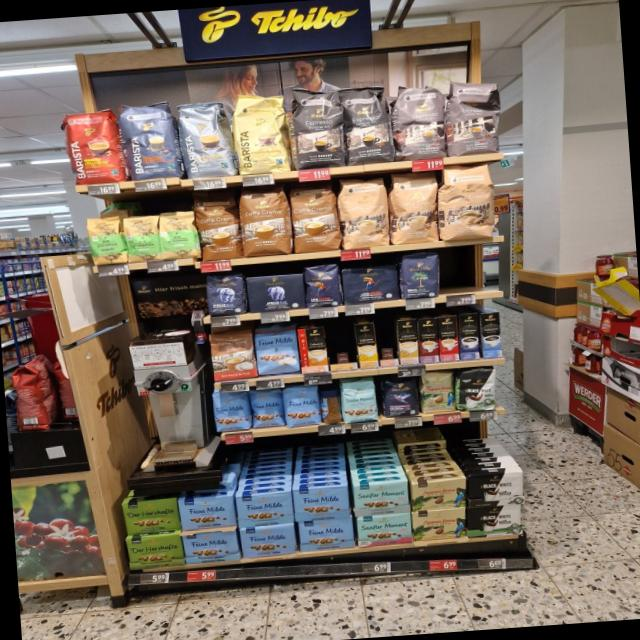AB Bohne: (204, 270, 246, 316)
AB Gemahlen: (245, 272, 307, 314)
Athiopien Bohne: (84, 214, 127, 266)
Athiopien Gemahlen: (158, 209, 198, 260), (123, 214, 161, 264)
BW Bohne: (399, 250, 442, 300), (458, 367, 500, 412)
BW Gemahlen: (466, 470, 526, 507), (466, 503, 524, 540)
Barista CB: (231, 90, 290, 176)
Barista CC: (175, 99, 238, 179)
Barista Espresso: (118, 100, 183, 182)
Barista Kolumbien: (61, 108, 126, 186)
C Fino Bohne: (382, 376, 421, 418)
CC Mild: (438, 167, 496, 240), (336, 174, 392, 248), (390, 170, 440, 244)
CC Vollmundig: (208, 328, 258, 381)
CC Vollmundig 36 Pads: (288, 180, 342, 253), (240, 184, 293, 257), (193, 188, 241, 260)
Colombia BB Bohne: (419, 370, 456, 414)
Colombia BB Gemahlen: (409, 476, 468, 511), (410, 507, 468, 542)
Empty Shelf: (440, 245, 502, 295), (326, 324, 356, 363), (374, 320, 398, 360)
Espresso Aromatisch: (446, 76, 506, 155), (392, 82, 448, 161)
Espresso S Art: (289, 81, 346, 169), (338, 84, 397, 165)
FM 36 Pads: (253, 322, 300, 375)
FM Bohne: (210, 388, 251, 432), (284, 385, 322, 427), (248, 388, 285, 428)
FM Gemahlen: (178, 494, 236, 532), (234, 491, 294, 527), (181, 528, 240, 564), (293, 486, 351, 522), (238, 524, 296, 558), (297, 518, 355, 552)
FM Instant: (318, 387, 342, 425)
Herzhatfe Mundig: (124, 533, 185, 570), (121, 498, 180, 535)
LG Bohne: (303, 262, 343, 308)
LG Gemahlen: (341, 264, 400, 305)
SM Bohne: (340, 377, 379, 424)
SM Gemahlen: (354, 481, 411, 516), (356, 513, 413, 548)
Simo CCMild bigpack: (354, 323, 379, 369)
Simo CCVollmundig: (296, 327, 328, 373)
Simo Decaff: (396, 318, 419, 365)
Simo Es Brazil: (438, 315, 460, 361)
Simo Es Caramel: (418, 317, 438, 363)
Simo Es Kraft: (458, 312, 479, 360)
Simo Es Vanilla: (480, 312, 502, 358)
